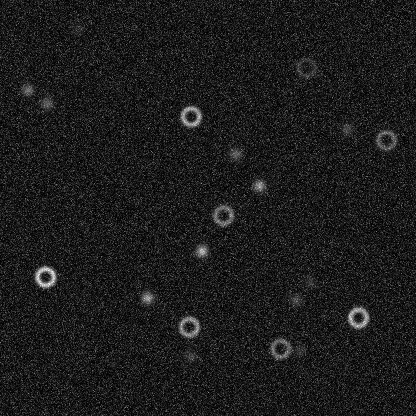Ring: (268, 336, 292, 360), (294, 55, 318, 79), (176, 314, 200, 338), (211, 203, 235, 227), (374, 127, 398, 151), (346, 305, 370, 329), (178, 104, 202, 128), (33, 264, 57, 288)
Spot: (251, 177, 267, 193), (182, 348, 198, 364), (301, 273, 317, 289), (39, 95, 55, 111), (139, 289, 155, 305), (68, 20, 84, 36), (193, 242, 209, 258), (338, 121, 354, 137), (19, 81, 35, 97), (291, 342, 307, 358), (226, 145, 242, 161), (287, 291, 303, 307)
